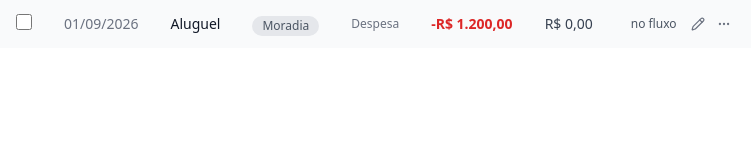
Test: linha de previsão recorrente não conciliada › no lançamento realizado, a lixeira fala de lançamento
The width and height of the screenshot is (752, 160).
Click the button named "Mais ações". click: click(724, 24)
box: [713,13,735,35]
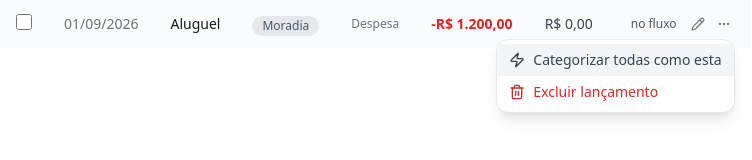
Expected: the menu item "Excluir lançamento" is shown, [497,76,734,108]
